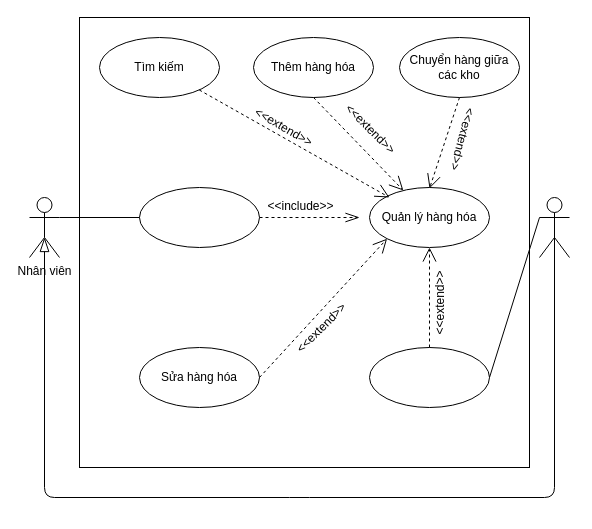
This 592x529 diagram has some shape labels left out. The centre of each missing label's shape, as x and y in pixels:
Quản lý: (554,227)
Xóa hàng hóa: (429,377)
Đăng nhập: (199,217)
